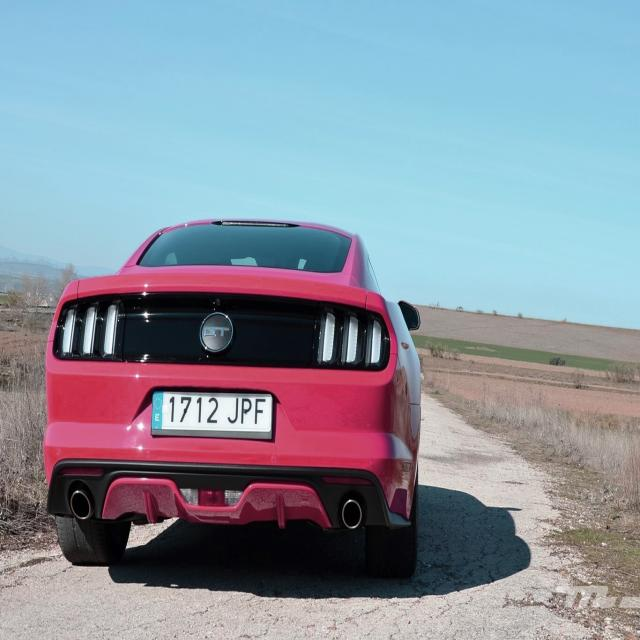football: (151, 391, 273, 430)
